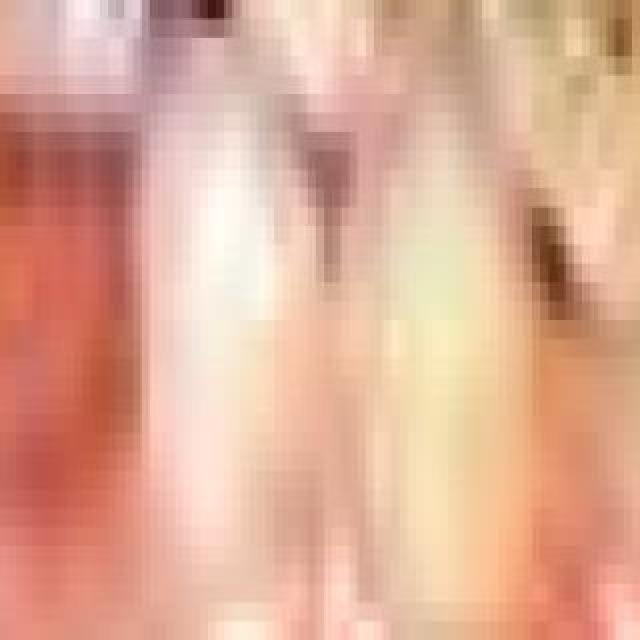cavities: (270, 0, 482, 110), (482, 0, 640, 132), (0, 0, 184, 74)
missing: (0, 86, 224, 550)
